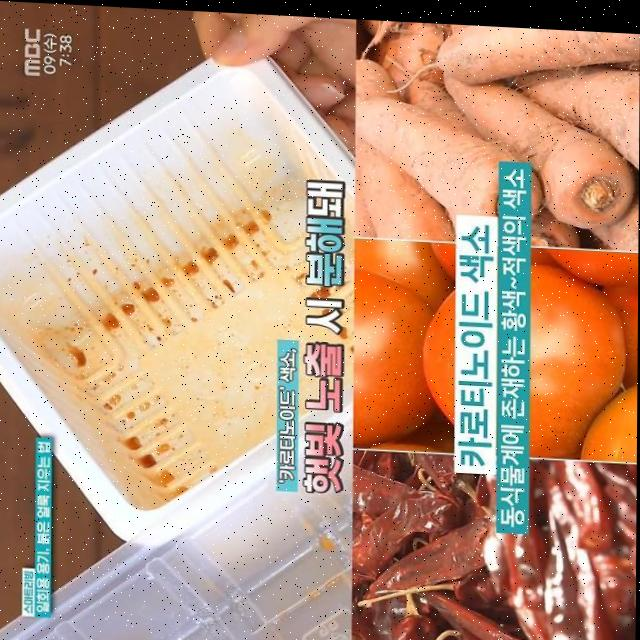disposable: (0, 2, 369, 581)
